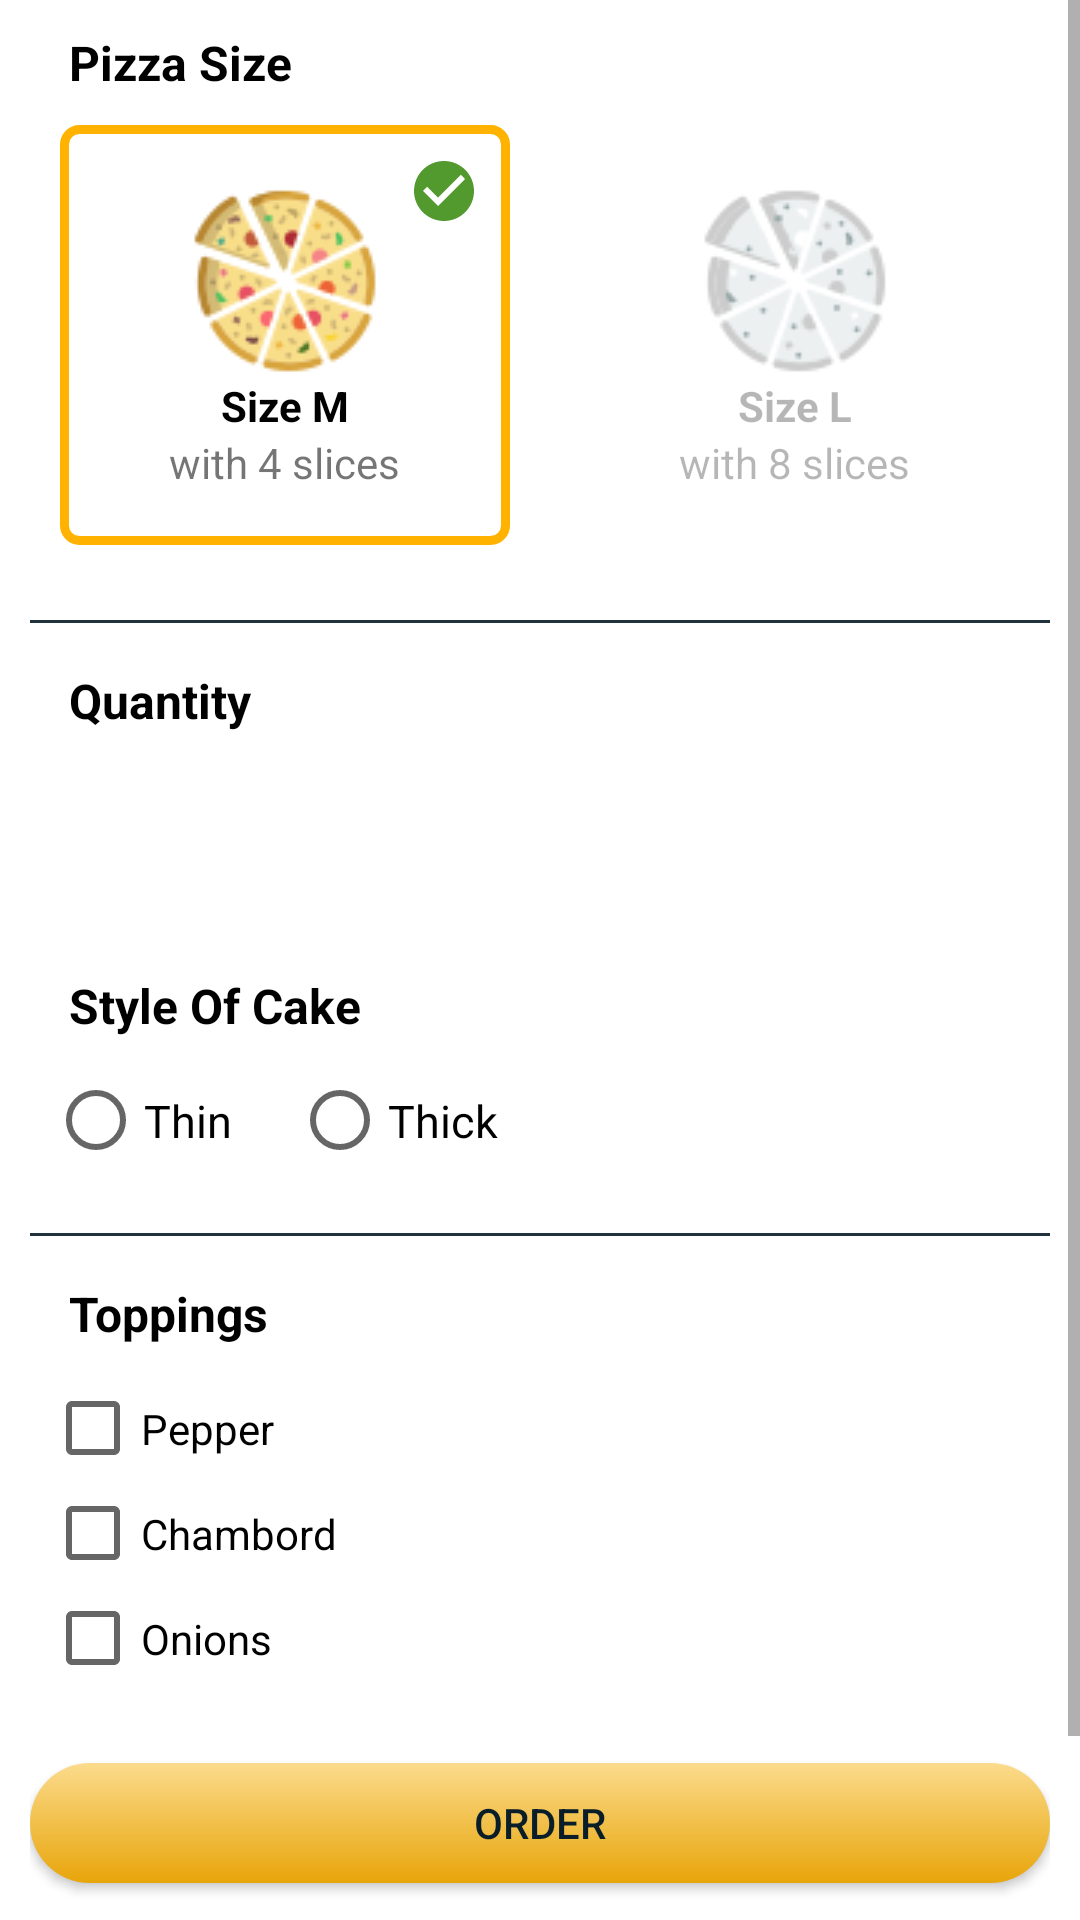

Where to tap for icons on this 1080×1920 app screen, as point (x, y):
check: point (444, 191)
